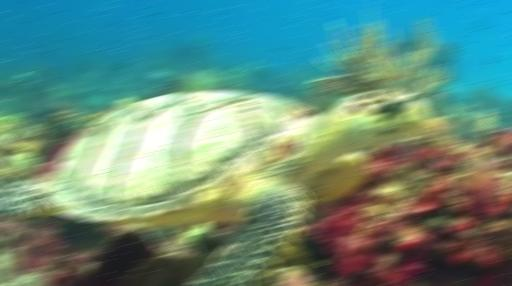Fish: (0, 92, 429, 285)
